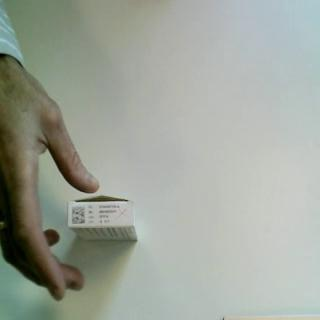oxycontin5mg: (67, 194, 141, 244)
